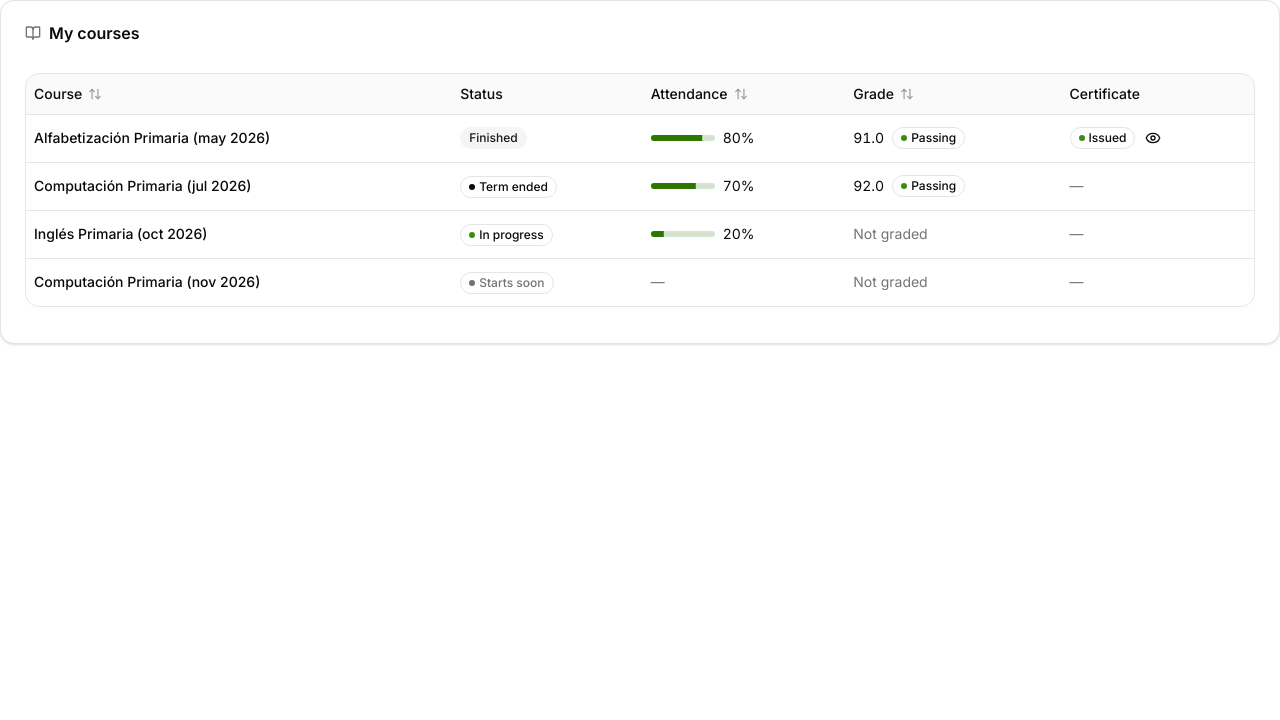
it: <StudentCoursesTable /> — buildStudentProgress roll-up (ADR-0032/0043) › shows an issued certificate with its preview, and a dash where there is none
// The action says what it does: it previews, and the preview's footer saves the PDF.
Click the button named "Preview the Alfabetización Primaria (may 2026) certificate".
click(1154, 138)  # box x1=1140 y1=124 x2=1168 y2=152
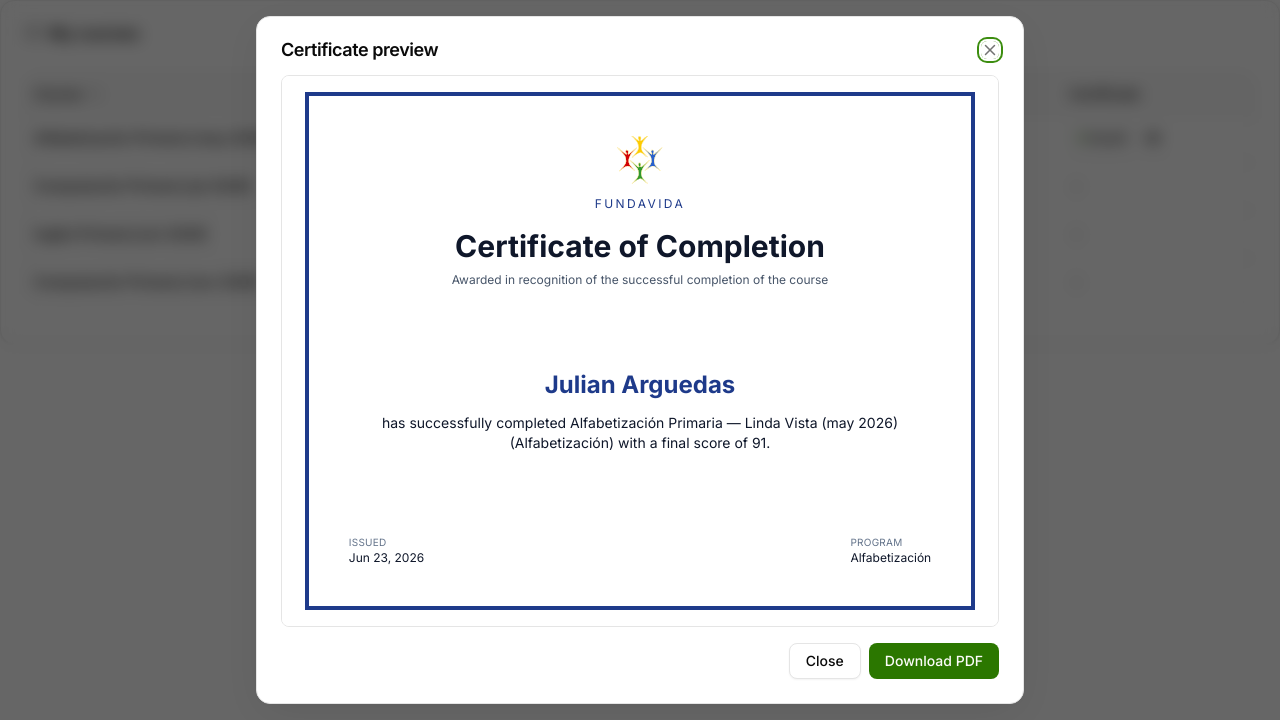
expect the dialog "Certificate preview" is shown: met, box x1=256 y1=16 x2=1024 y2=704
